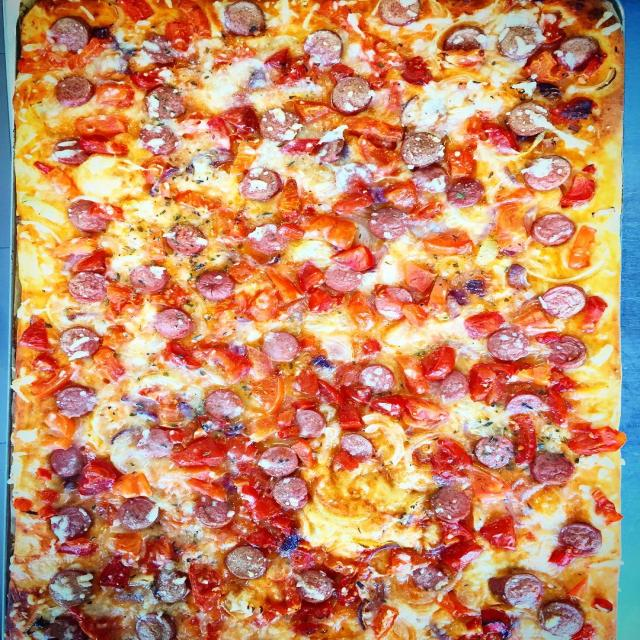pizza: (6, 0, 626, 640)
tomatoes: (188, 565, 228, 623), (222, 106, 270, 152), (78, 116, 130, 156), (299, 214, 356, 250), (566, 424, 628, 455), (495, 193, 528, 251), (244, 376, 290, 416), (168, 439, 228, 468), (179, 0, 225, 37), (484, 121, 524, 163), (349, 117, 409, 145), (434, 439, 476, 478), (76, 464, 120, 499), (560, 172, 600, 210), (70, 607, 116, 640), (481, 515, 525, 549), (399, 396, 445, 428), (509, 415, 537, 467), (329, 243, 377, 273), (141, 535, 179, 572), (418, 345, 457, 381), (212, 209, 248, 248), (421, 345, 461, 380), (211, 347, 250, 382), (356, 135, 400, 166), (363, 34, 403, 67), (31, 368, 73, 399), (570, 224, 596, 272), (276, 177, 304, 221), (444, 539, 481, 572), (287, 365, 326, 396), (268, 51, 308, 81), (184, 480, 230, 506), (266, 272, 302, 305), (70, 39, 107, 71), (20, 322, 57, 354), (382, 181, 421, 211), (592, 489, 622, 528), (419, 236, 480, 255), (92, 346, 126, 380), (464, 310, 502, 340), (402, 264, 440, 294), (95, 86, 141, 110), (291, 436, 319, 474), (291, 99, 335, 123), (238, 469, 270, 502), (527, 55, 566, 82), (471, 363, 497, 403), (333, 190, 373, 216), (542, 391, 570, 427), (175, 192, 226, 211), (246, 291, 278, 321), (446, 150, 480, 177), (166, 341, 201, 367), (76, 249, 111, 274), (310, 288, 349, 310), (248, 498, 280, 524), (109, 285, 142, 310), (402, 57, 433, 83), (110, 534, 145, 557), (98, 561, 130, 586), (92, 201, 126, 224), (297, 262, 327, 288), (116, 0, 156, 19), (317, 381, 347, 406), (168, 24, 195, 51), (219, 292, 249, 316), (144, 154, 168, 184), (587, 296, 607, 331), (276, 221, 308, 242), (246, 528, 276, 550), (227, 261, 257, 283), (372, 397, 404, 417), (336, 406, 362, 430), (229, 434, 256, 457), (133, 68, 165, 87), (347, 384, 373, 404), (538, 17, 560, 40), (330, 62, 353, 82), (292, 398, 318, 409)
